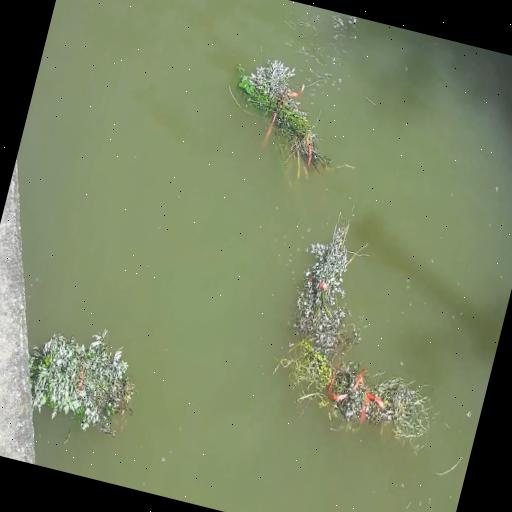twig: (264, 332, 442, 451), (216, 48, 360, 187), (15, 314, 148, 444), (284, 206, 380, 357)
